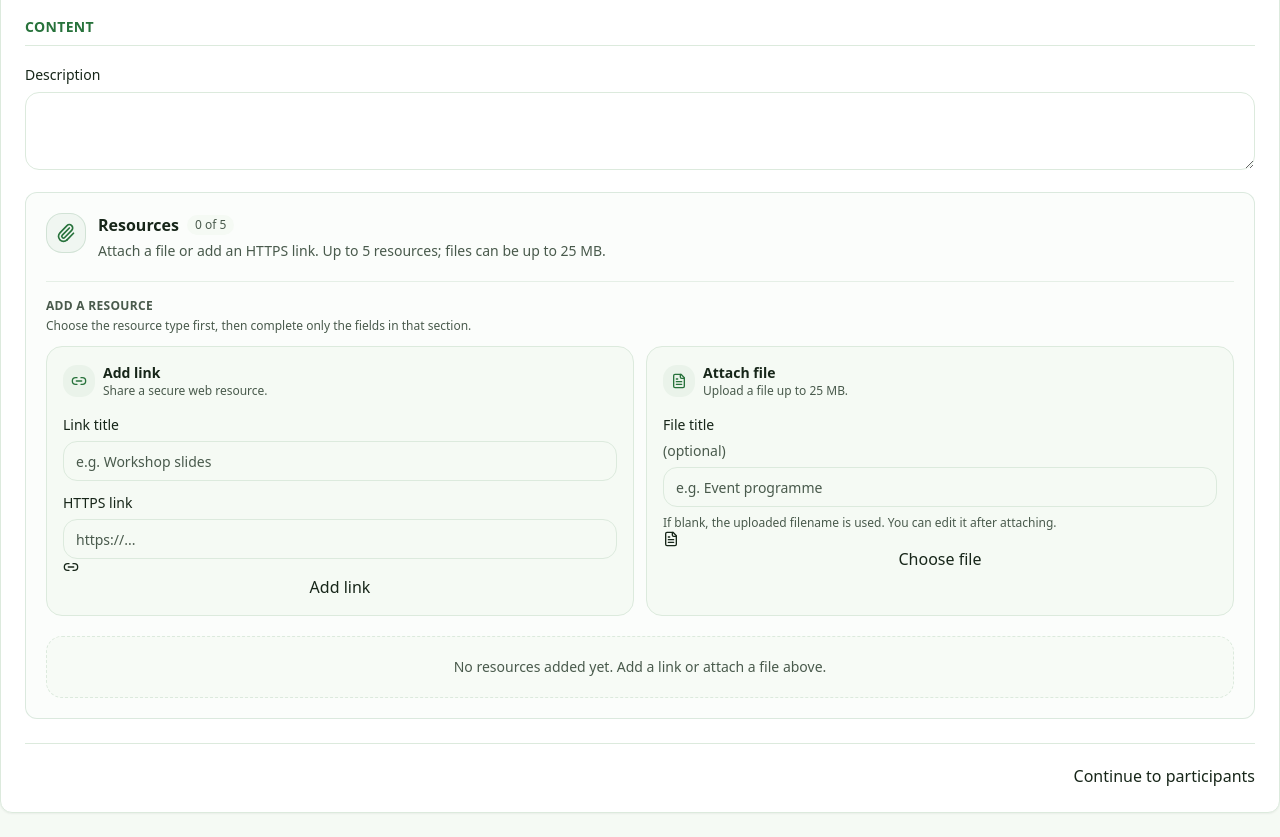
Test: organizer UI flows › validates create event details before advancing to participant selection
The width and height of the screenshot is (1280, 837).
(page scrolled)
Click the button "Continue to participants" at (1164, 776), box [1074,764,1255,788]
(page scrolled)
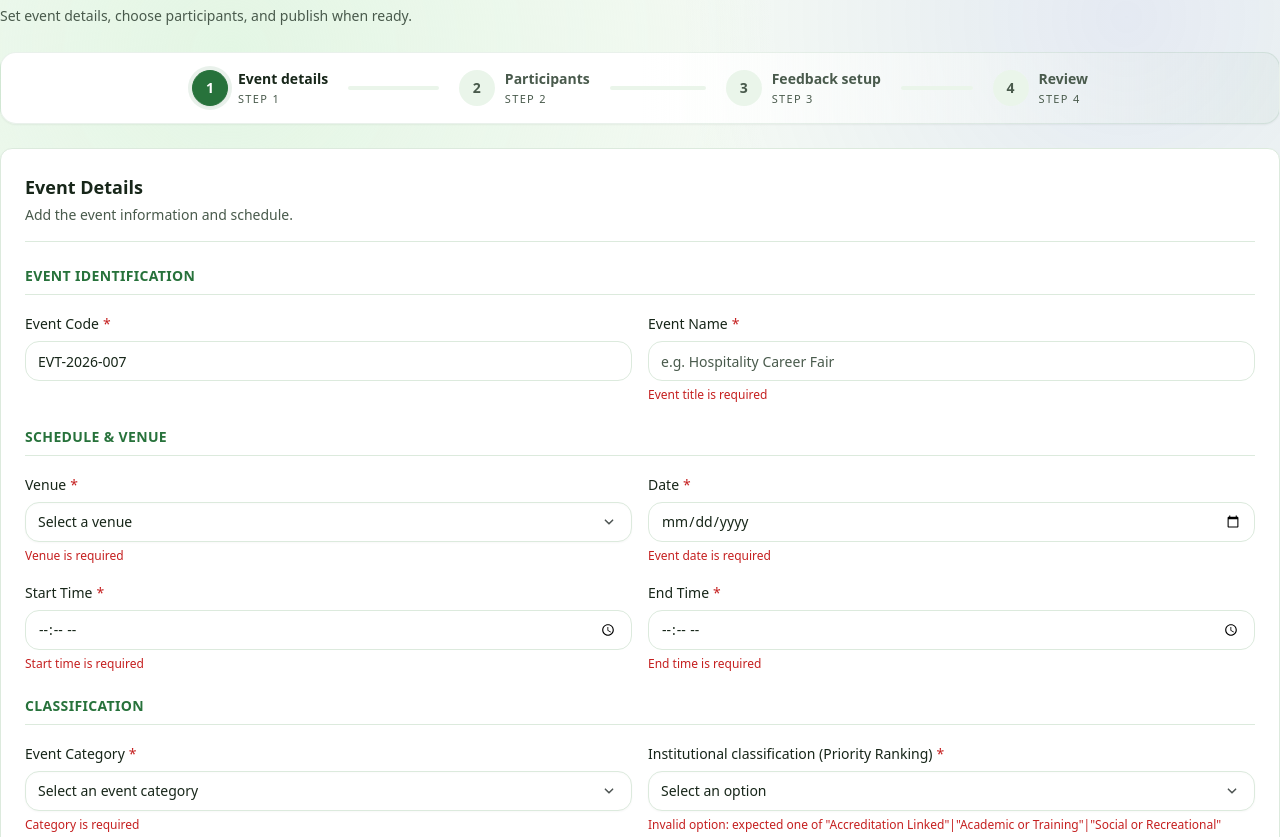
Expected: the text "Event title is required" is shown, [648,386,767,403]
